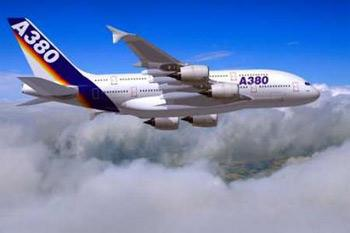airplane: (5, 12, 320, 130)
